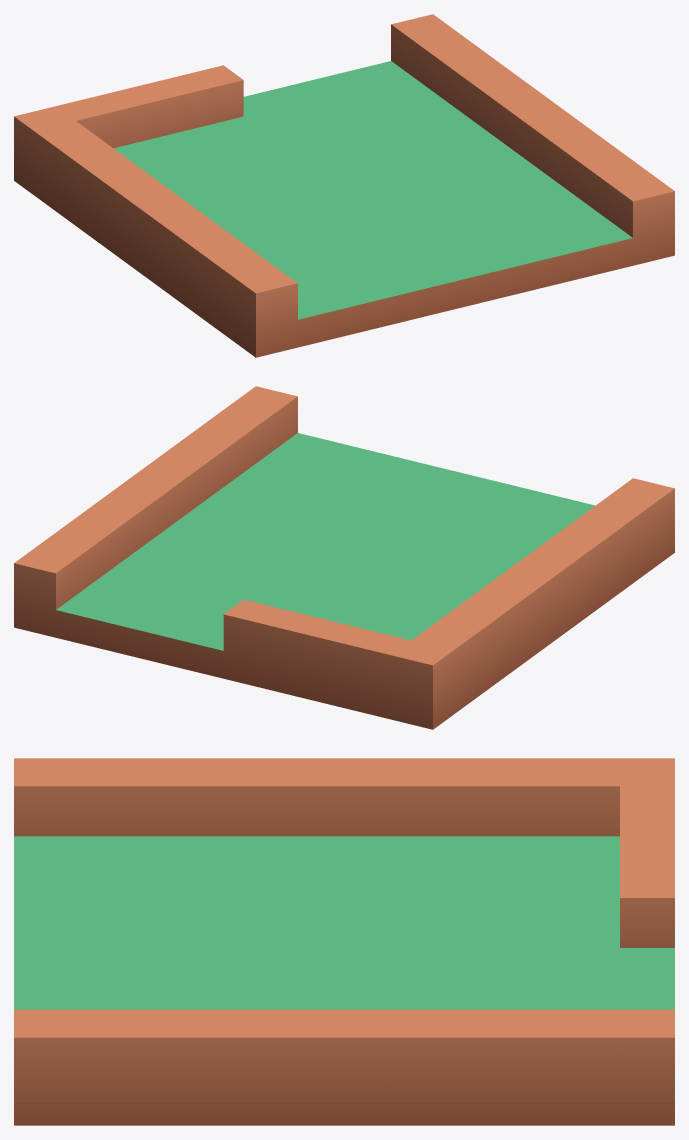
File: wall-right.glb
3 renders of one model, top to bottom at view 1: azimuth 30°, elevation 25°; view 2: azimuth 150°, elevation 25°; view 3: azimuth 270°, elevation 25°, orthographic. The views are drawn at different scales.
Visible parts, largest first — view 1: wall-right; view 2: wall-right; view 3: wall-right.
Boxes of the visible parts, bbox=[...] form: wall-right: bbox=[14, 14, 674, 357]; wall-right: bbox=[14, 386, 674, 729]; wall-right: bbox=[14, 758, 674, 1125].
Size of the model in its own units: 0.9999 by 0.1467 by 0.9999.
Materials: 1 (1 with a texture image).
